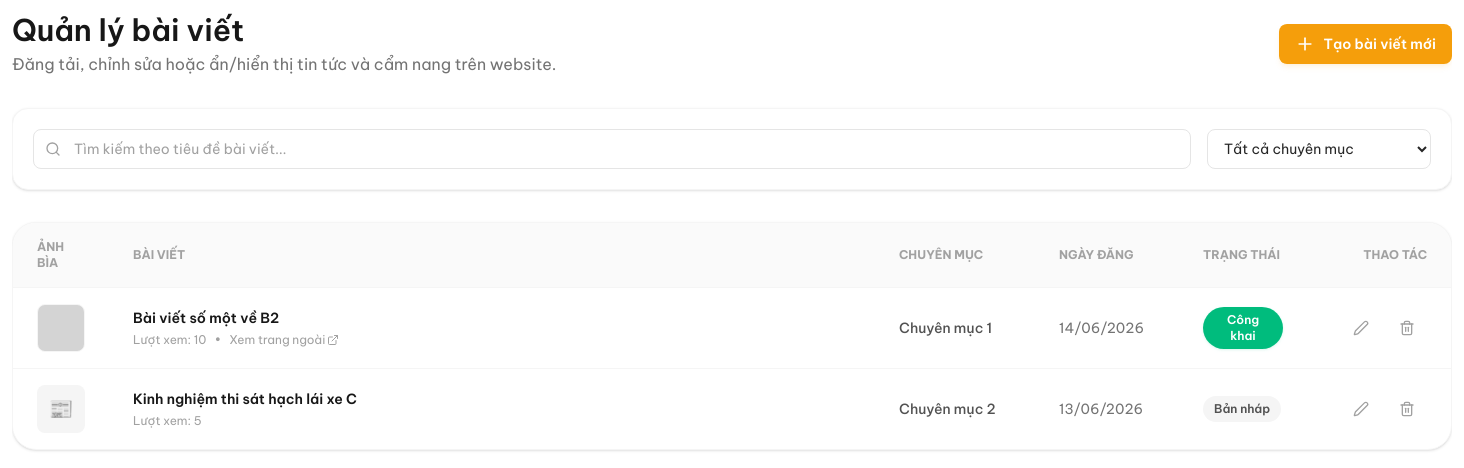
Test: AdminNewsPage Component › [HAPPY PATH] nên lọc danh sách bài viết theo từ khóa tìm kiếm (search)
The width and height of the screenshot is (1464, 468).
Expected: the link "Bài viết số một về B2" is shown, [133,309,279,327]
Type "Kinh nghiệm" into the field with placeholder "Tìm kiếm theo tiêu đề bài viết..." at (612, 149), box [33,129,1191,169]
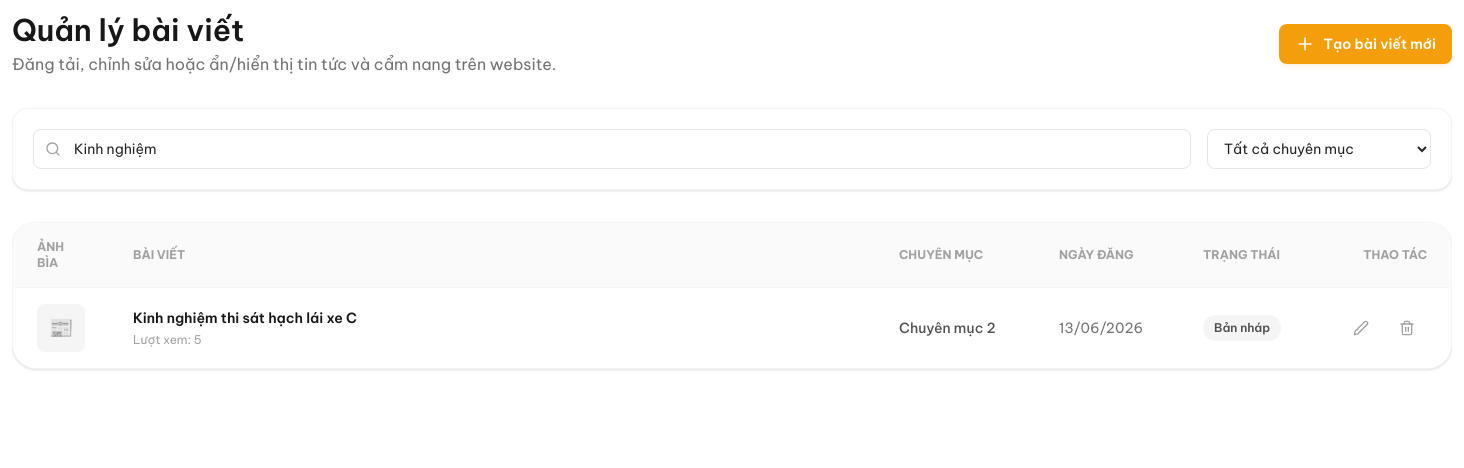
Expected: the link "Kinh nghiệm thi sát hạch lái xe C" is shown, [133,309,357,327]
Result: the link "Bài viết số một về B2" is gone
